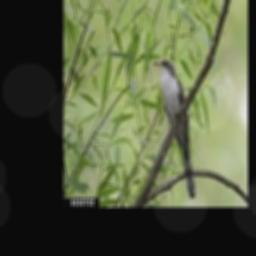Cuckoo: (154, 60, 196, 199)
